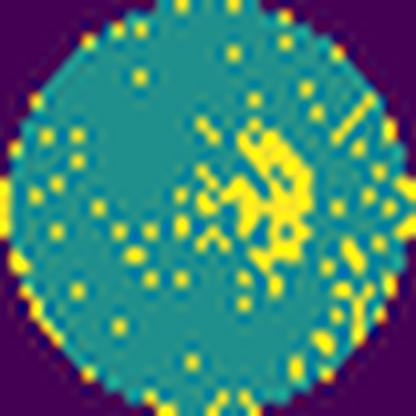Loc: (221, 115, 315, 302)
